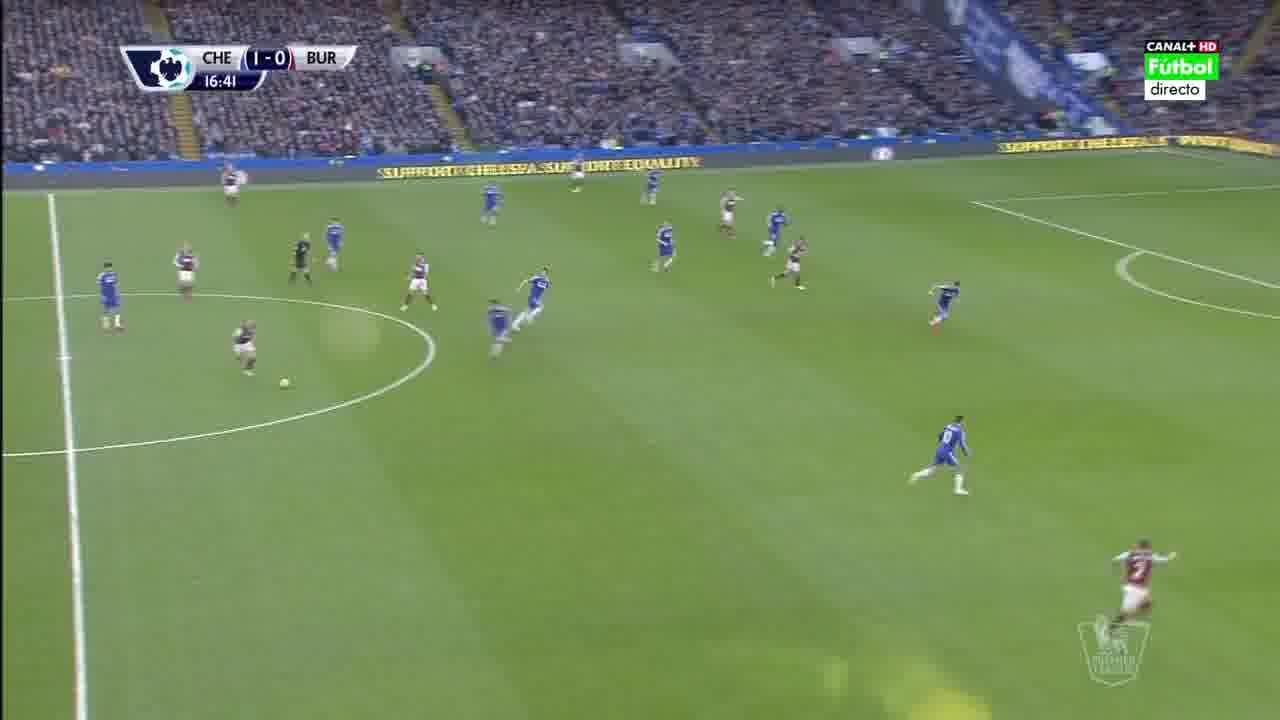football: (279, 377, 290, 389)
